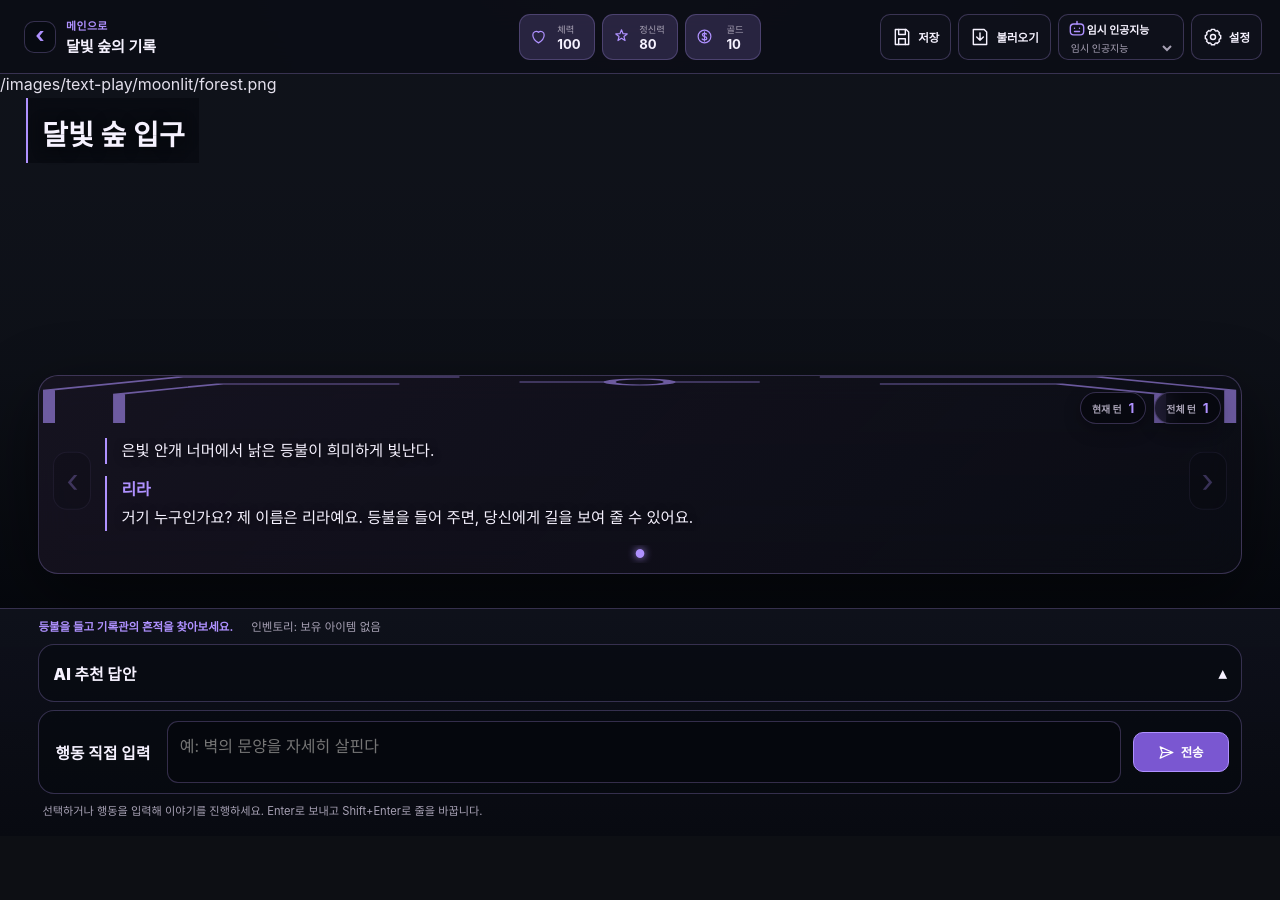
Test: Text-Play 저장 흐름 › 사용 중인 수동 슬롯에 장면과 플레이 시간을 표시한다
This screenshot has width=1280, height=900.
Click the button "AI 추천 답안 ▴": click(95, 674) [51,653,1229,693]
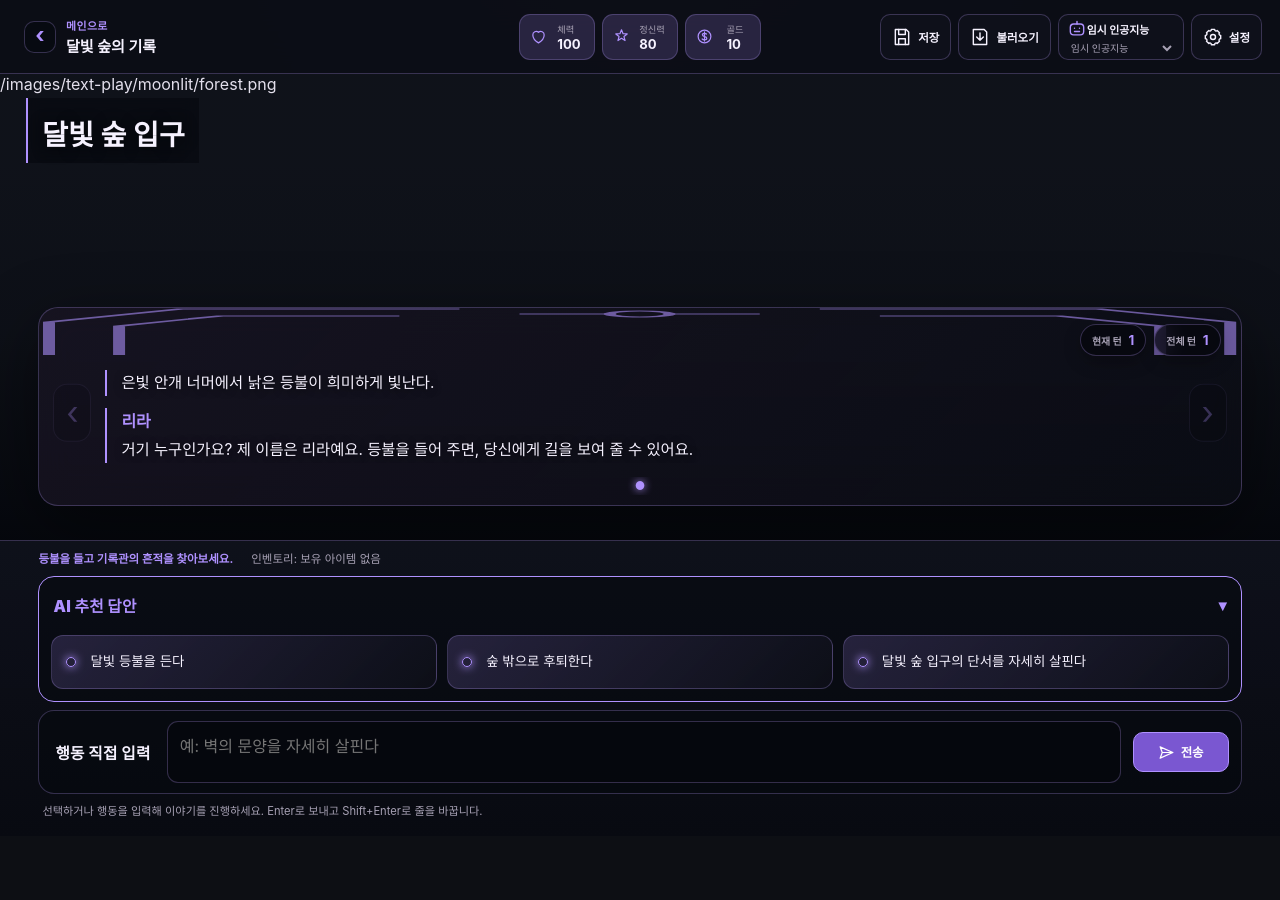
Click the button "달빛 등불을 든다": click(137, 661) [51,635,437,689]
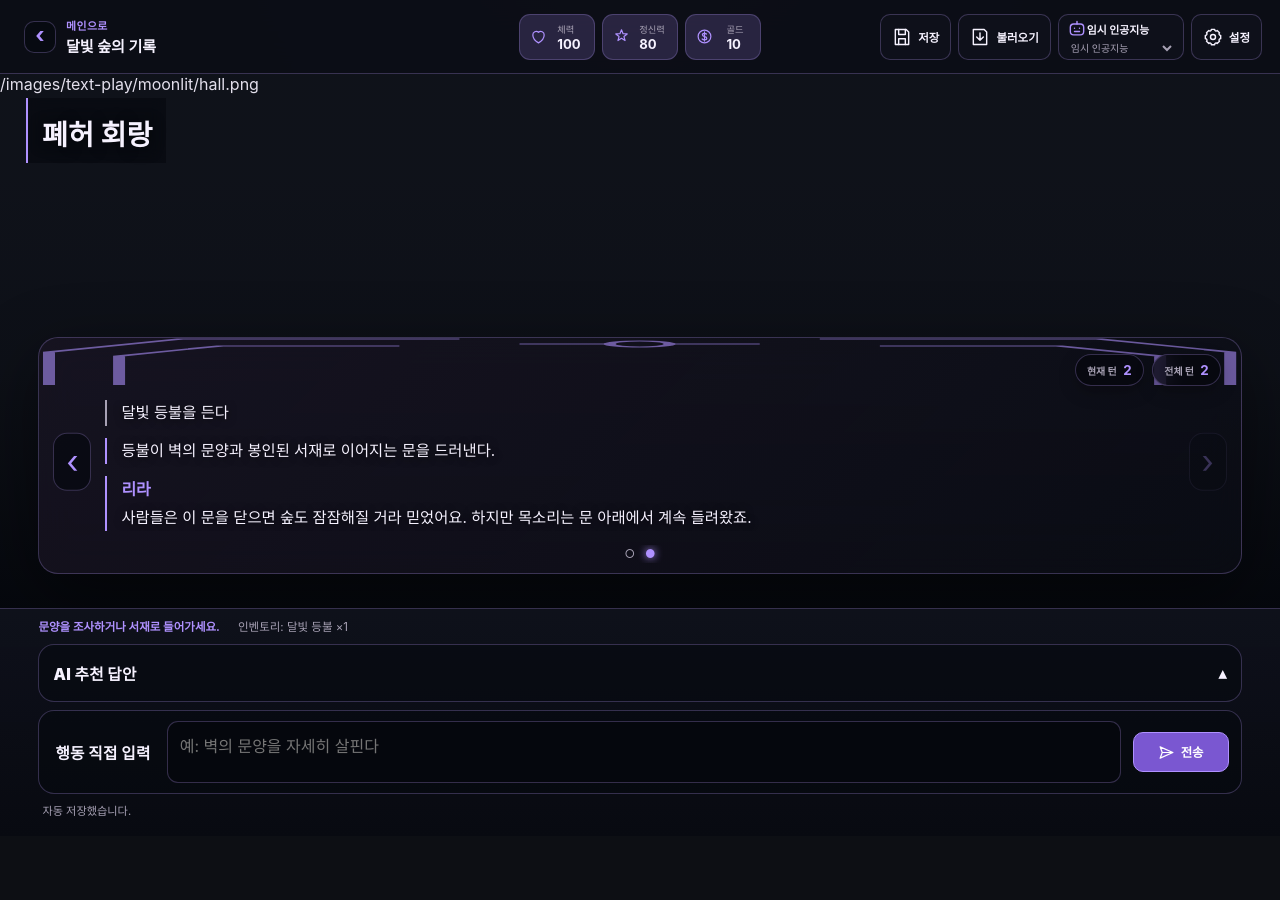
Click the button with aria-label "저장 슬롯 열기": click(916, 36) [880,14,951,60]
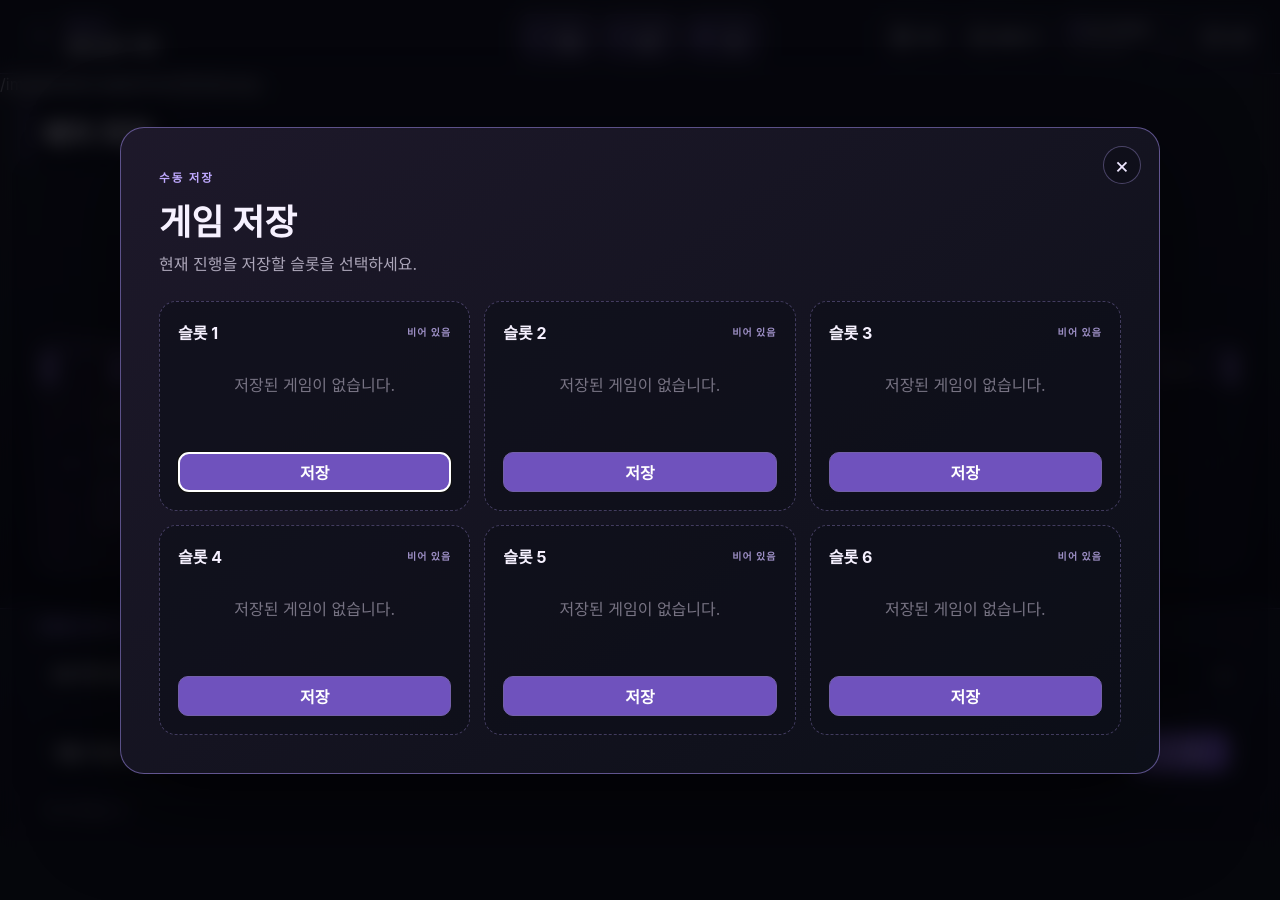
Click the button "저장" below "슬롯 1": click(315, 472) [178,452,451,492]
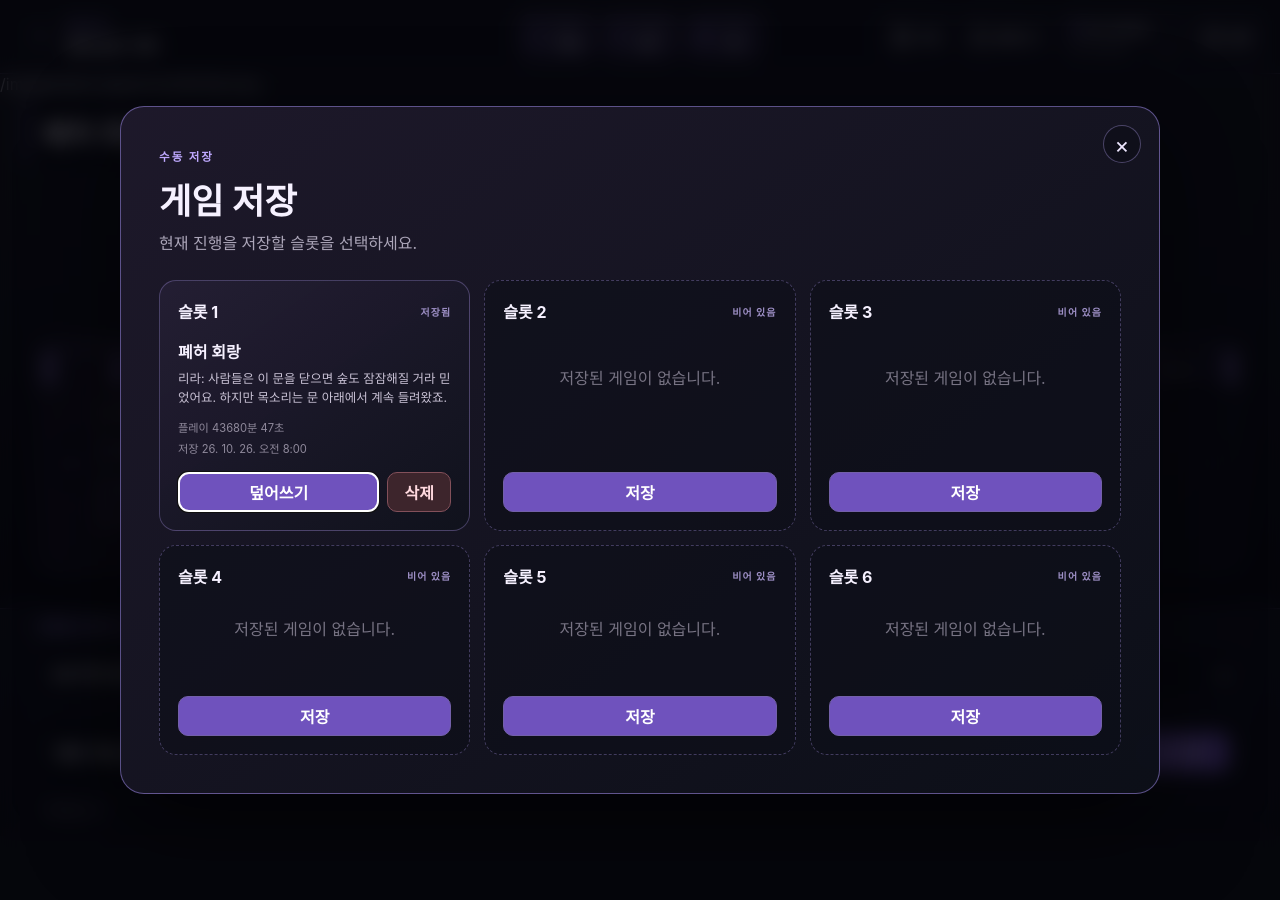
Check: the text "폐허 회랑" is shown, box [178,342,241,362]
Check: the text "플레이 43680분 47초" is shown, box [178,421,284,435]
Check: the text "저장 " is shown, box [178,442,307,456]
